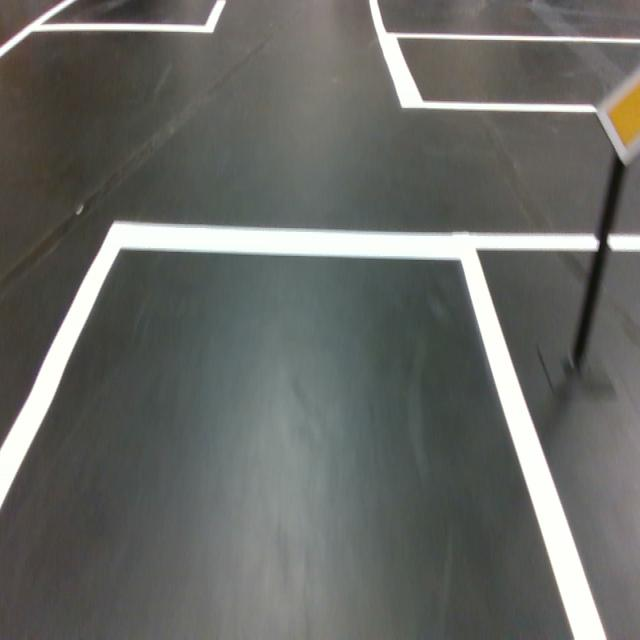priority-sign: (593, 60, 640, 169)
